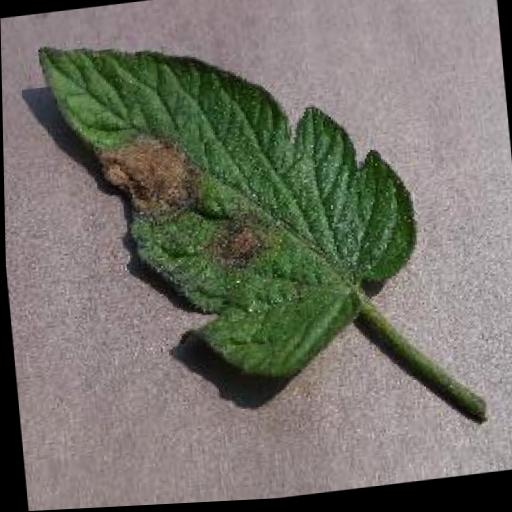Late Blight: (35, 5, 426, 407)
